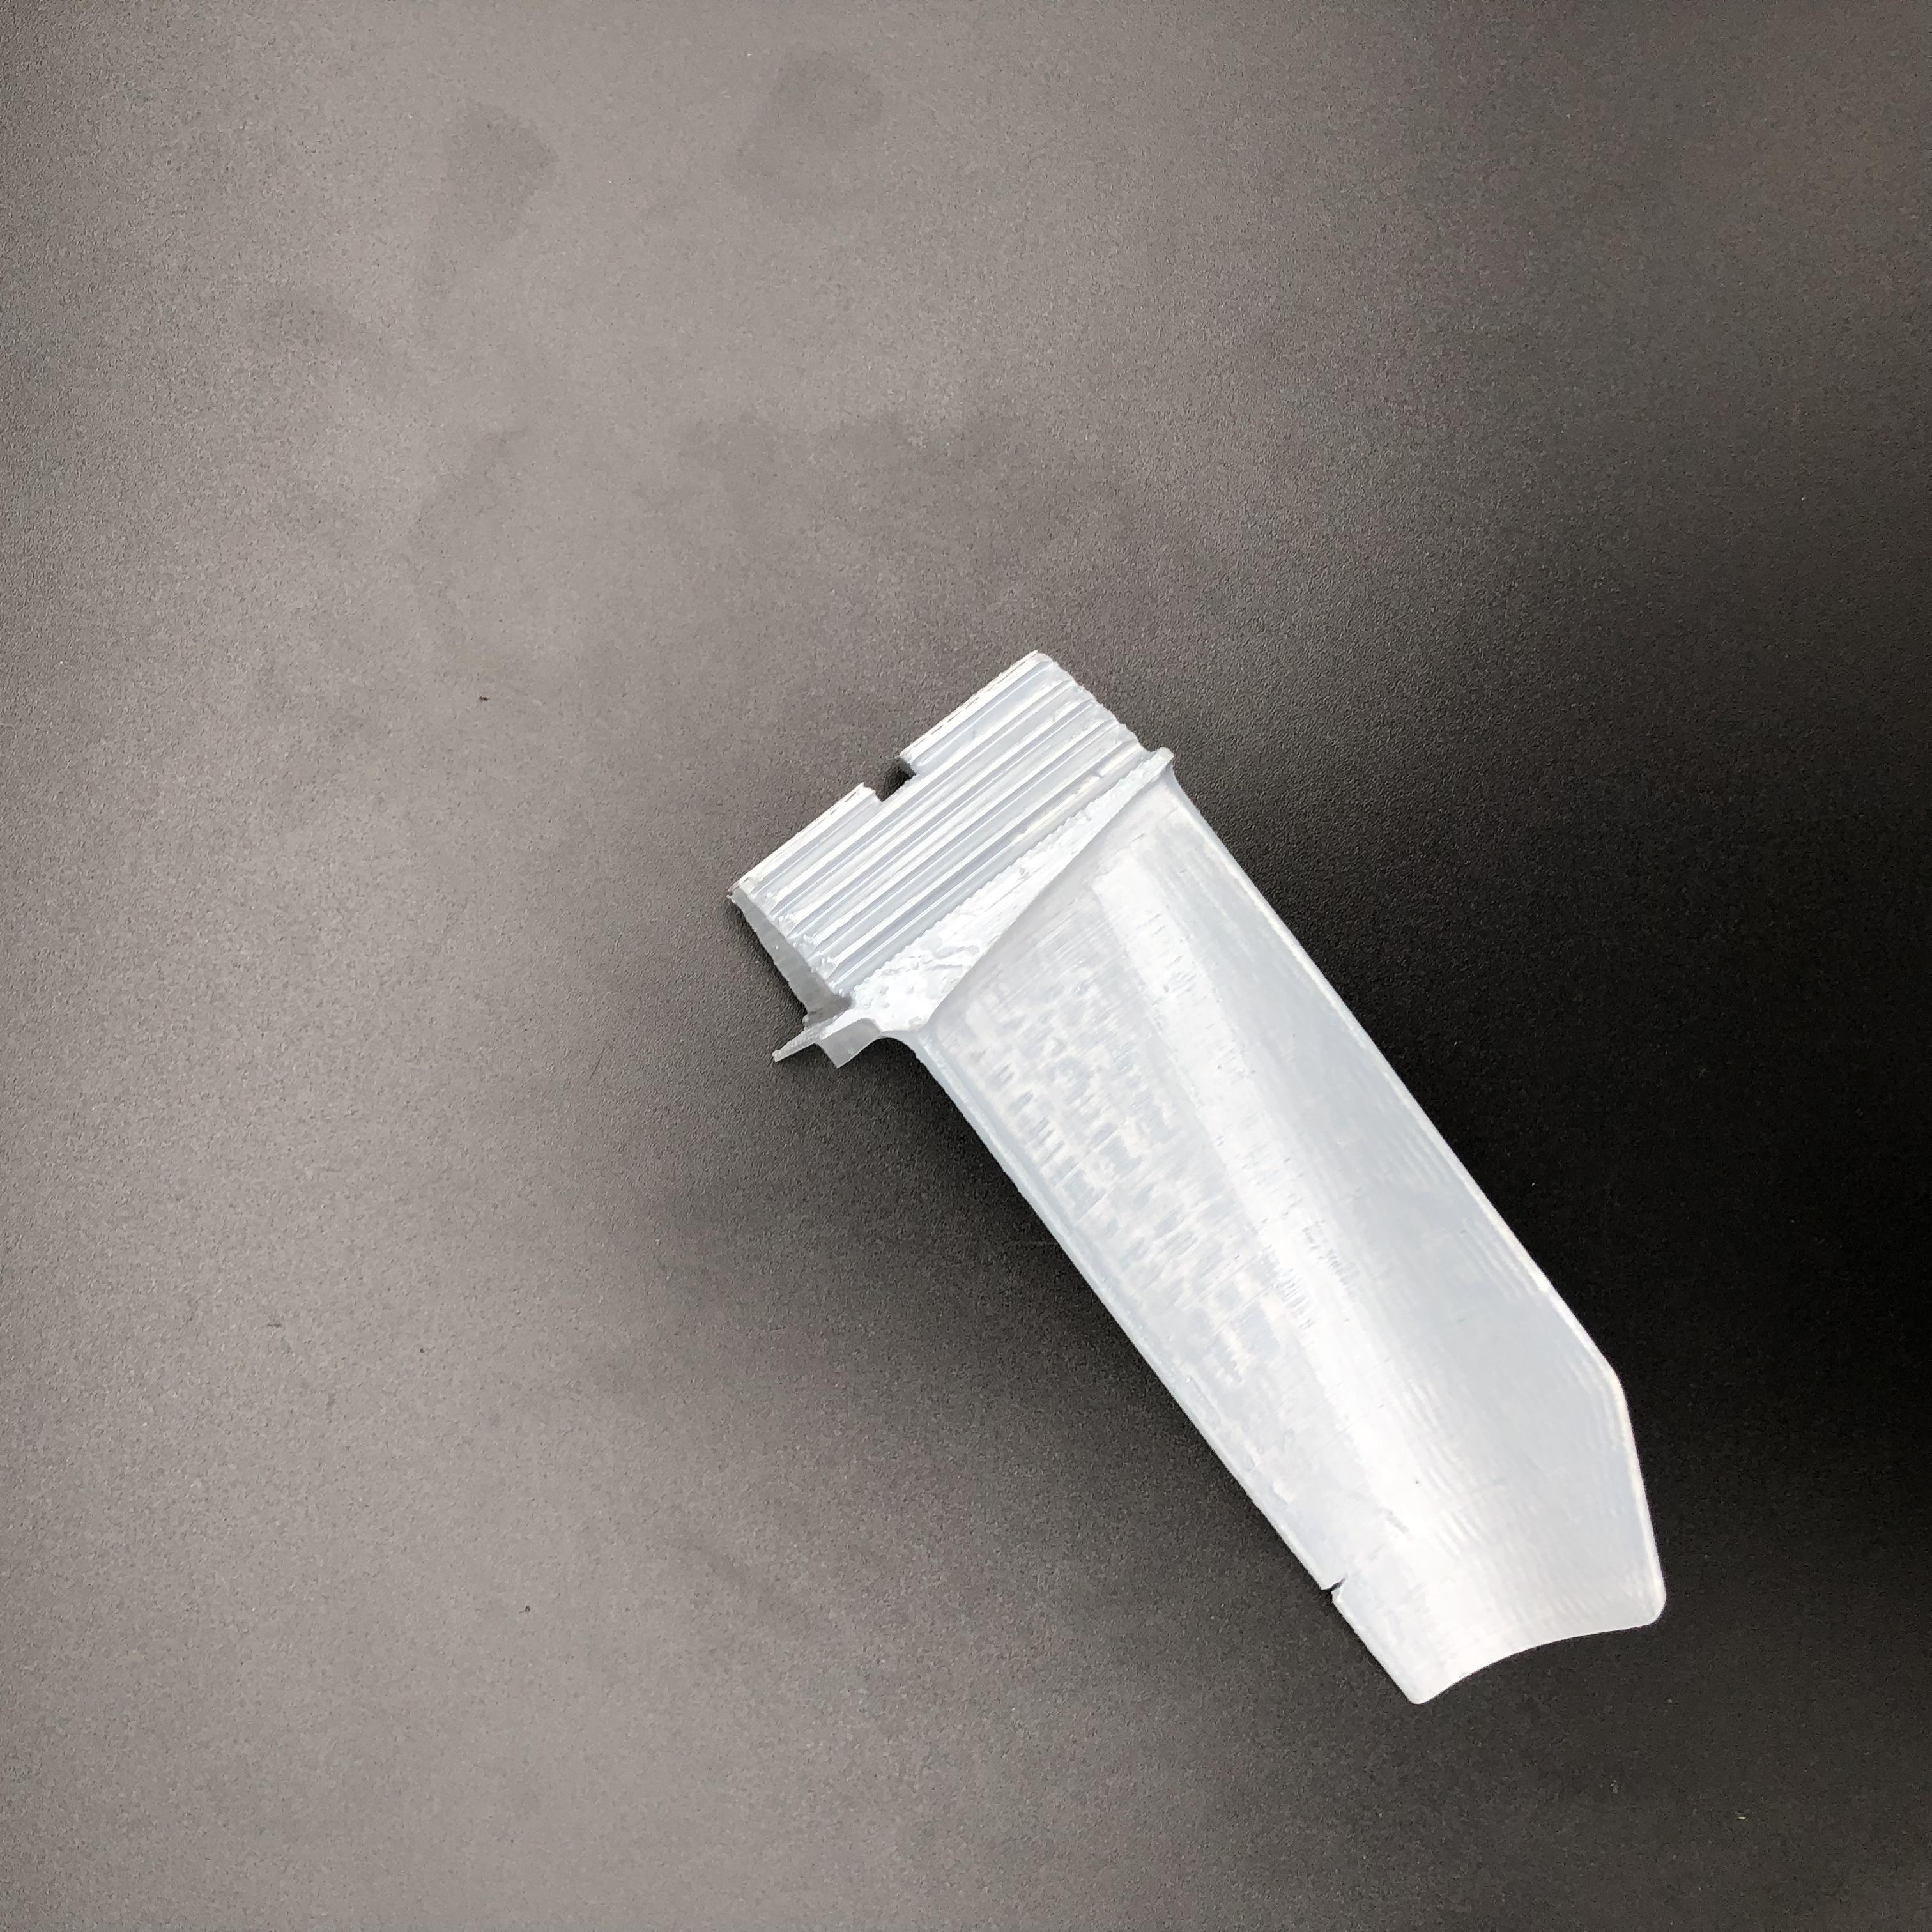groove: (1320, 1571, 1364, 1612)
